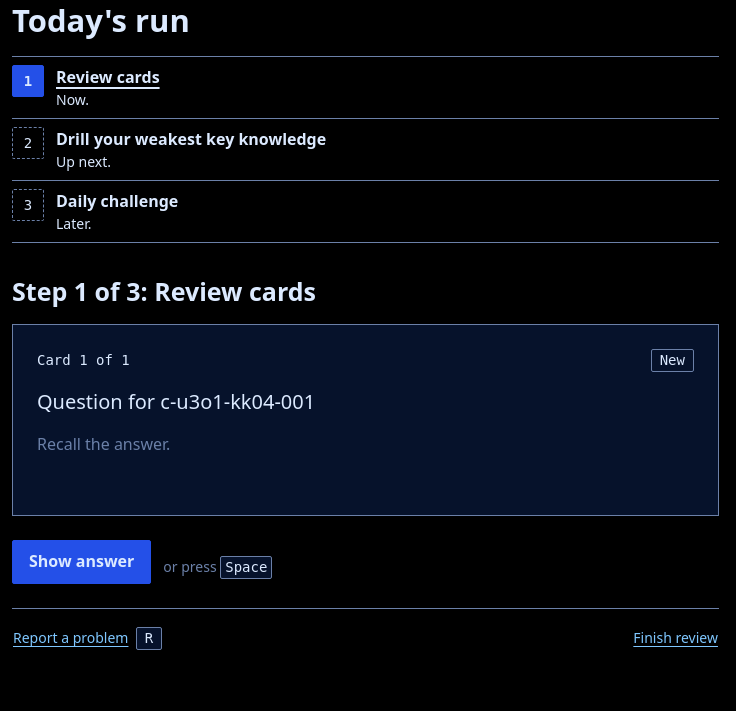
Scenario: Today's run › runs review, then the drill, then hands the daily challenge to the terminal
Later steps or results of the test are not shown.
Check: the heading "Step 1 of 3: Review cards" is shown, box [12,274,316,308]
Press Space
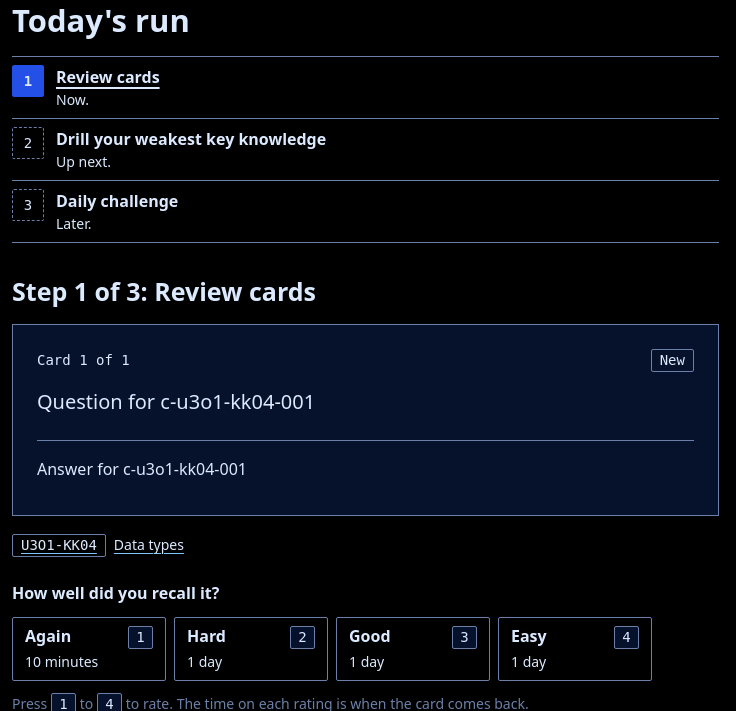
Press 3 in the element named "Card 1 of 1, answer shown", box [12,324,719,557]
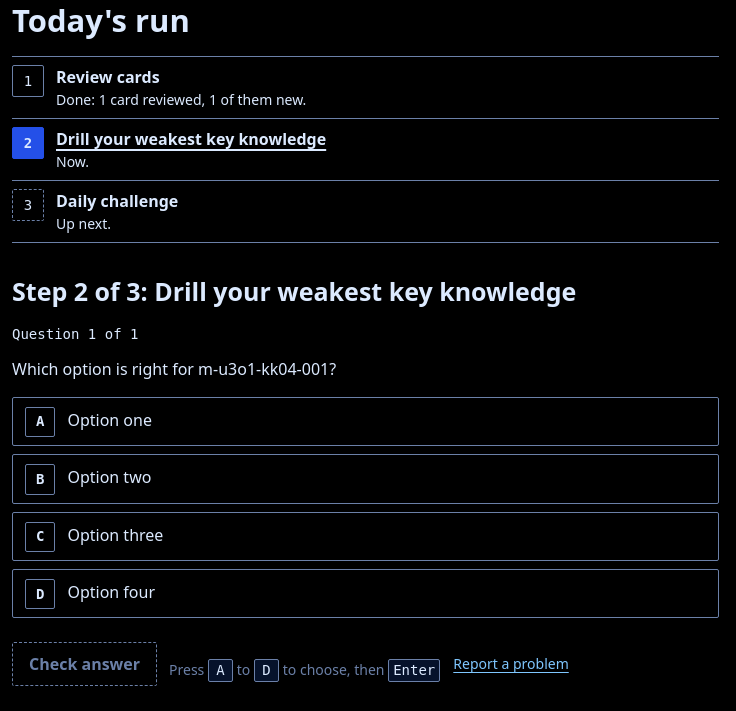
Check: the list item "1 Review cards Done: 1 card reviewed, 1 of them new." is shown, box [12,57,719,119]
Press c in the heading "Step 2 of 3: Drill your weakest key knowledge", box [12,274,576,308]
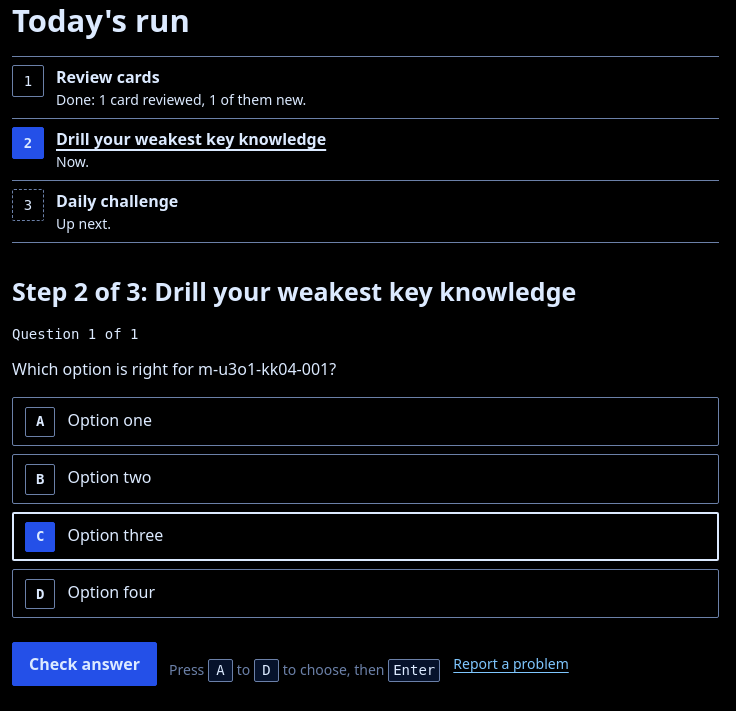
Press Enter in the heading "Step 2 of 3: Drill your weakest key knowledge", box [12,274,576,308]
(page scrolled)
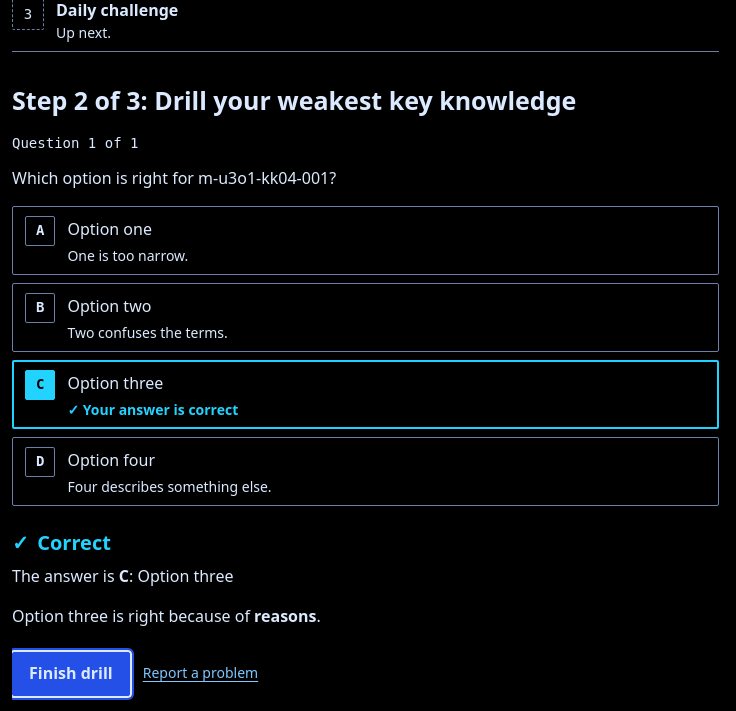
Click the button "Finish drill" at (71, 674), box [12,652,130,696]
(page scrolled)
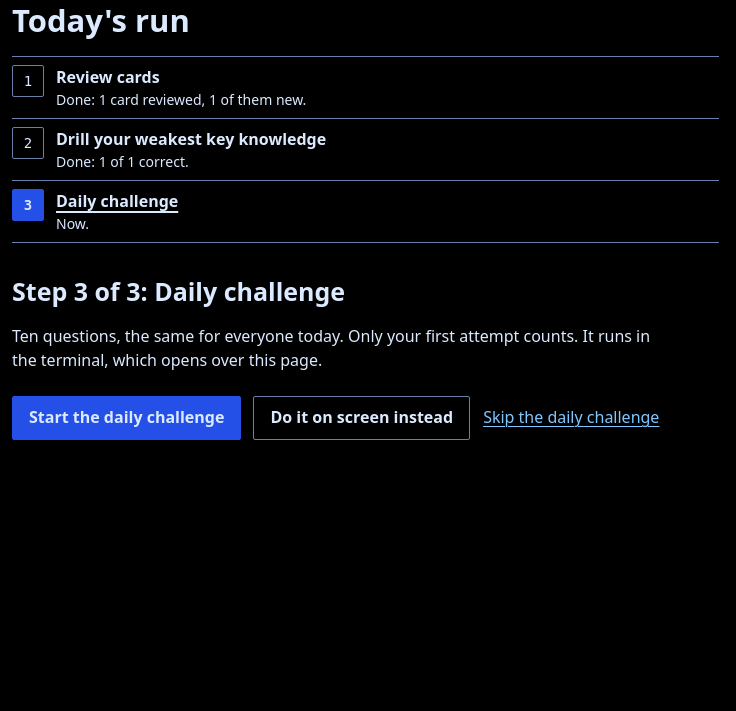
Check: the list item "2 Drill your weakest key knowledge Done: 1 of 1 correct." is shown, box [12,119,719,181]
